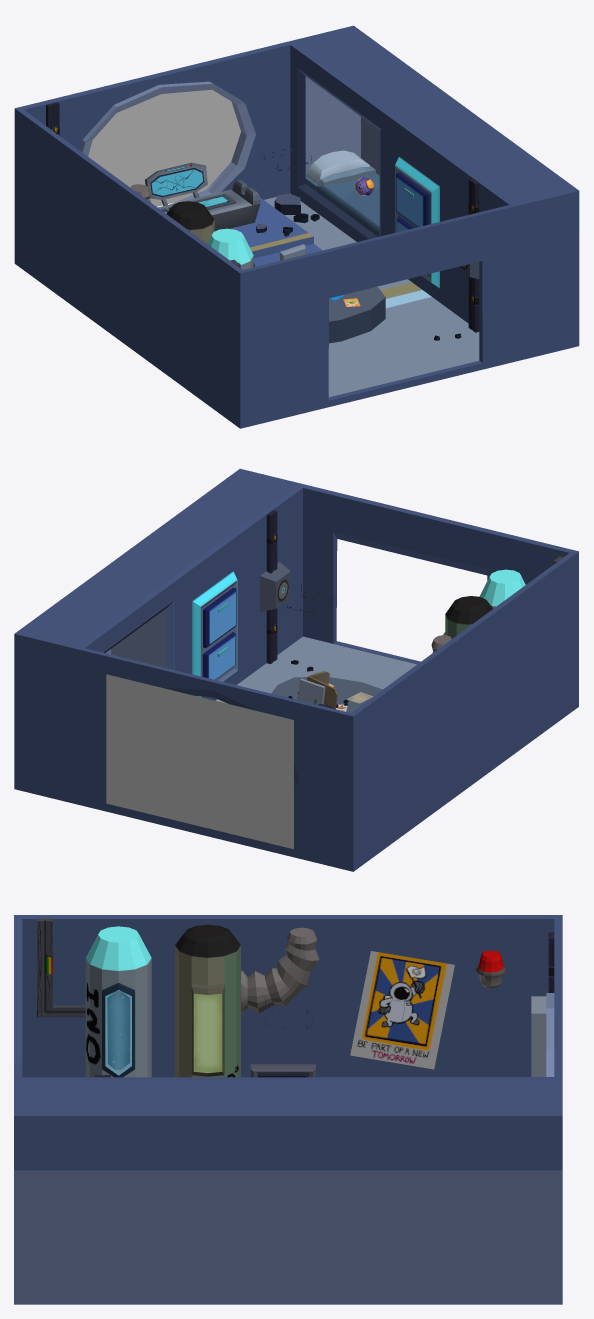
The model's file is Ship Interior_POSTCRASH.fbx.
3 views of the same model, one above another, from view 1: azimuth 30°, elevation 25°; view 2: azimuth 150°, elevation 25°; view 3: azimuth 270°, elevation 25° (orthographic). The views are drawn at different scales.
Visible parts, largest first — view 1: polySurface4, OUTDOOR_BG, polySurface8, pCube30, pCube11, pCylinder2, pCube28, pCylinder4, pCylinder3; view 2: polySurface4, OUTDOOR_BG, pCube28, pCylinder2, pCylinder4, pCube26, pCylinder3, polySurface10; view 3: polySurface4, pPlane5, pCylinder4, pCylinder3, pCube18, pPlane6, pPlane7, pCube17, pCube22, pCube16, pCylinder5.
Part boxes in pixels (<box>): polySurface4: <box>14,25,579,428</box>; OUTDOOR_BG: <box>88,89,240,206</box>; polySurface8: <box>145,162,260,231</box>; pCube30: <box>305,150,379,236</box>; pCube11: <box>230,197,322,266</box>; pCylinder2: <box>329,286,385,343</box>; pCube28: <box>46,102,479,332</box>; pCylinder4: <box>167,201,214,243</box>; pCylinder3: <box>207,228,255,269</box>; polySurface4: <box>14,468,578,871</box>; OUTDOOR_BG: <box>106,674,293,849</box>; pCube28: <box>266,510,331,707</box>; pCylinder2: <box>271,677,382,712</box>; pCylinder4: <box>443,596,492,638</box>; pCube26: <box>260,561,290,611</box>; pCylinder3: <box>479,569,525,608</box>; polySurface10: <box>297,671,337,709</box>; polySurface4: <box>14,915,562,1304</box>; pPlane5: <box>350,951,454,1069</box>; pCylinder4: <box>175,924,240,1077</box>; pCylinder3: <box>85,926,151,1077</box>; pCube18: <box>241,927,319,1013</box>; pPlane6: <box>193,993,222,1073</box>; pPlane7: <box>105,990,131,1075</box>; pCube17: <box>37,918,85,1017</box>; pCube22: <box>531,996,546,1076</box>; pCube16: <box>250,1064,315,1077</box>; pCylinder5: <box>475,951,506,988</box>.
Bounding box in the file's own units: 297 × 139 × 351.
